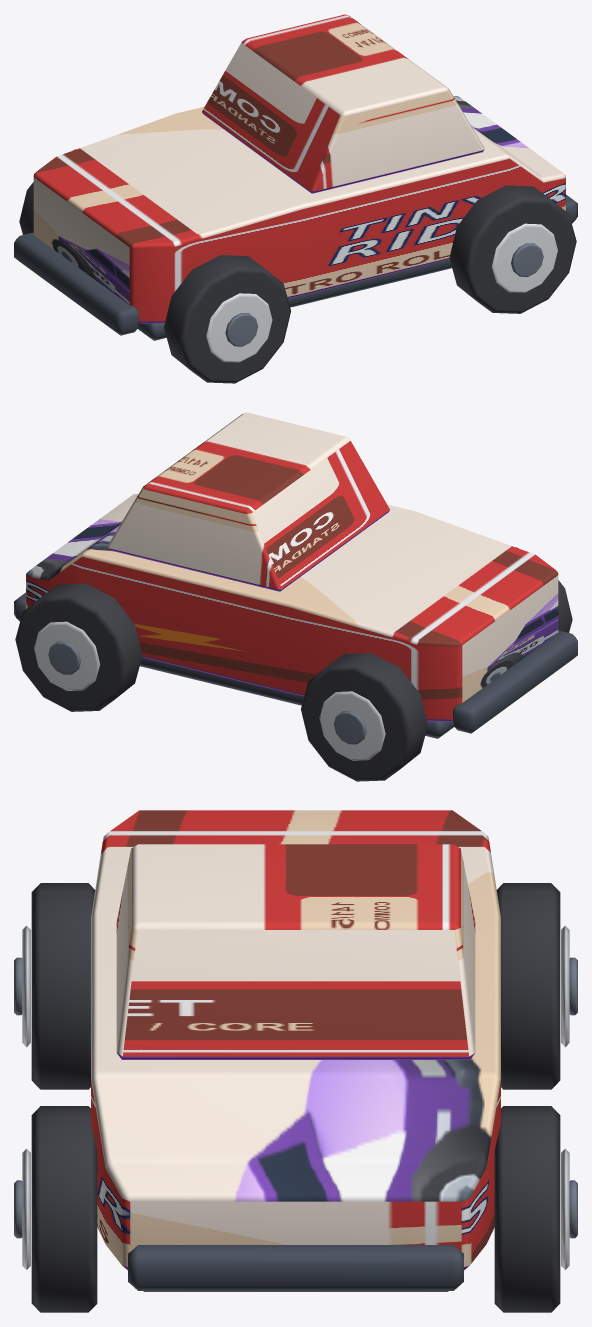
The picture shows the model from 3 angles, top to bottom: view 1: azimuth 30°, elevation 25°; view 2: azimuth 150°, elevation 25°; view 3: azimuth 270°, elevation 25°; orthographic projection. The views are drawn at different scales.
Parts seen in each view (by area): view 1: RR-05_connected_shell, RR-05_cabin, Tire.002, Tire, front bumper, Rim, Rim.002, underbody, Hub.002, Hub, Tire.001; view 2: RR-05_connected_shell, RR-05_cabin, Tire.003, Tire.001, front bumper, Rim.001, Rim.003, underbody, Hub.003, Hub.001, Tire; view 3: RR-05_connected_shell, RR-05_cabin, rear bumper, Tire.002, Tire.003, Tire, Tire.001, Rim, Rim.001, Rim.002, Rim.003.
Part boxes in pixels (x1,y1,x2,y2): RR-05_connected_shell: (33, 96, 565, 323); RR-05_cabin: (202, 14, 484, 193); Tire.002: (449, 185, 576, 313); Tire: (164, 255, 290, 383); front bumper: (14, 232, 139, 335); Rim: (206, 293, 272, 362); Rim.002: (492, 223, 557, 292); underbody: (138, 259, 451, 340); Hub.002: (511, 243, 543, 276); Hub: (225, 313, 257, 346); Tire.001: (19, 149, 75, 234); RR-05_connected_shell: (26, 494, 558, 721); RR-05_cabin: (107, 412, 389, 591); Tire.003: (15, 583, 142, 711); Tire.001: (301, 653, 427, 781); front bumper: (452, 630, 577, 733); Rim.001: (319, 691, 385, 760); Rim.003: (34, 621, 99, 690); underbody: (140, 657, 453, 738); Hub.003: (48, 641, 80, 674); Hub.001: (334, 711, 366, 744); Tire: (516, 547, 572, 632); RR-05_connected_shell: (91, 810, 500, 1270); RR-05_cabin: (116, 844, 475, 1059); rear bumper: (128, 1245, 463, 1290); Tire.002: (31, 1106, 97, 1312); Tire.003: (494, 1106, 560, 1312); Tire: (31, 883, 95, 1089); Tire.001: (496, 883, 560, 1089); Rim: (22, 925, 30, 1047); Rim.001: (561, 925, 569, 1047); Rim.002: (22, 1148, 30, 1269); Rim.003: (561, 1148, 569, 1269).
Size of the model in its own units: 339 by 151 by 223.
